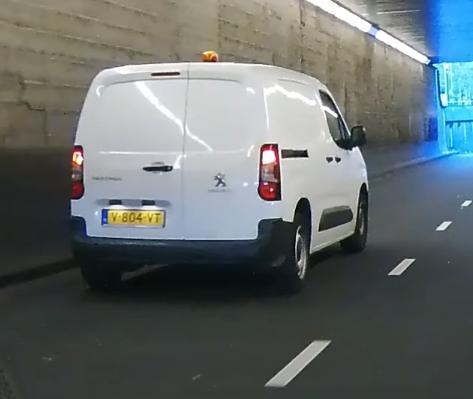license-plate: (100, 209, 167, 228)
